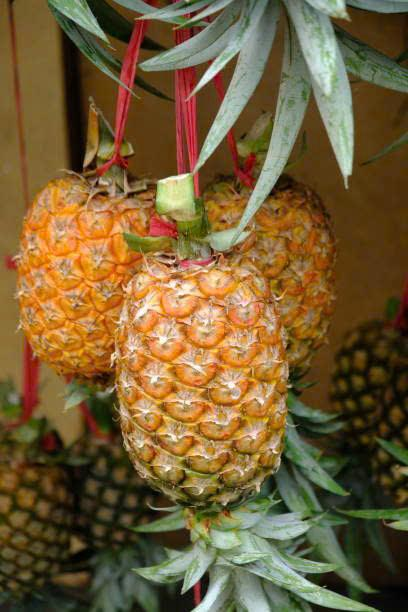pineapple: (117, 241, 293, 520), (19, 172, 121, 395)
